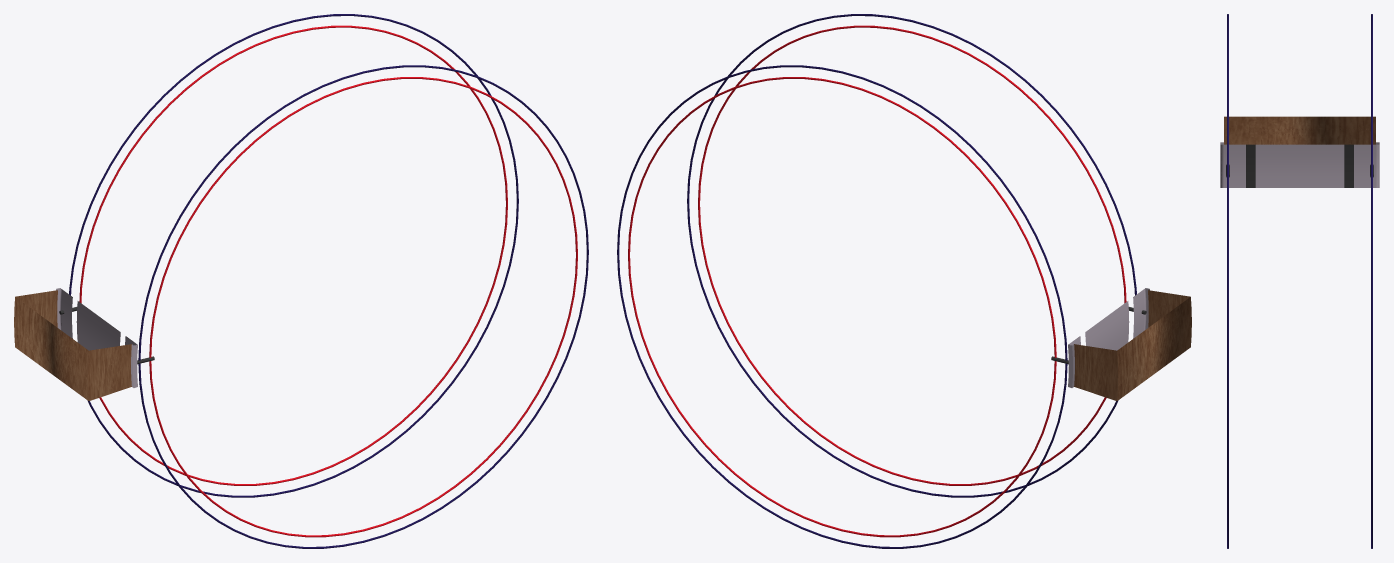
File: AreneRingAssets.fbx
3 views of the same model, side by side, from view 1: azimuth 30°, elevation 25°; view 2: azimuth 150°, elevation 25°; view 3: azimuth 270°, elevation 25° (orthographic). The views are drawn at different scales.
Visible parts, largest first — view 1: BezierCircle, Cylinder.003; view 2: BezierCircle, Cylinder.003; view 3: Cylinder.003, BezierCircle.
Part boxes in pixels (x1=…): BezierCircle: x1=69, y1=14, x2=588, y2=548; Cylinder.003: x1=14, y1=288, x2=137, y2=400; BezierCircle: x1=617, y1=14, x2=1136, y2=548; Cylinder.003: x1=1068, y1=288, x2=1191, y2=400; Cylinder.003: x1=1220, y1=116, x2=1379, y2=187; BezierCircle: x1=1227, y1=14, x2=1372, y2=548.
Bounding box in the file's own units: 2844 × 2547 × 760.
